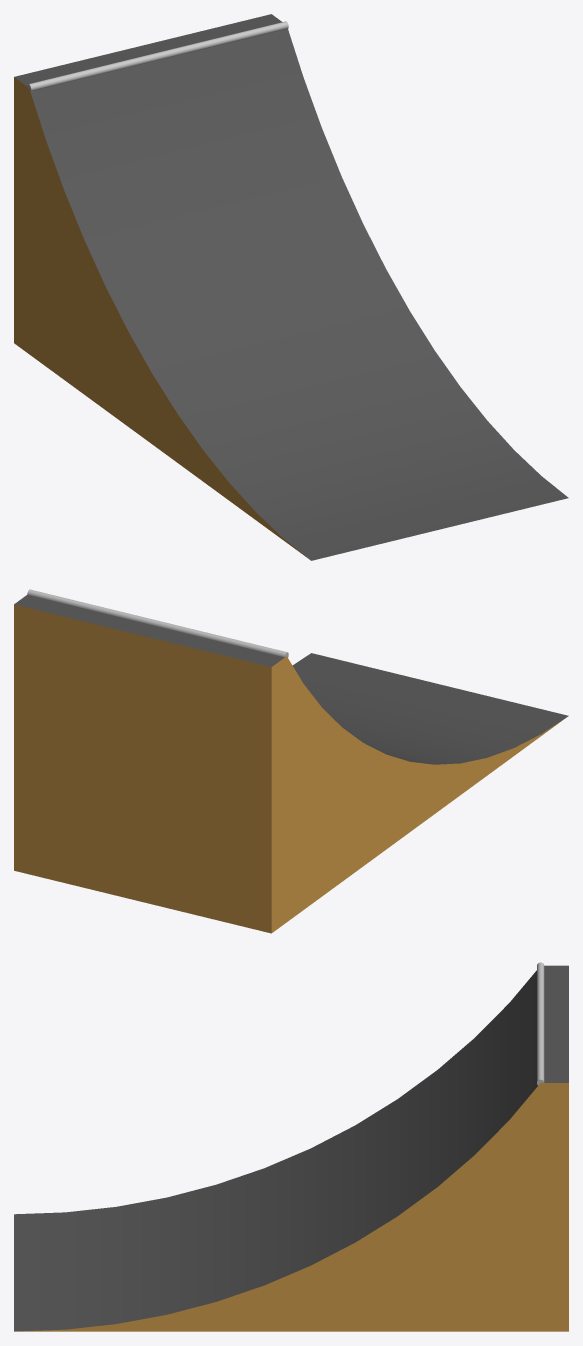
Rendered from Skate_Quarter_Pipe_Long_w_Back_Rail_01.FBX.
3 renders of one model, top to bottom at view 1: azimuth 30°, elevation 25°; view 2: azimuth 150°, elevation 25°; view 3: azimuth 270°, elevation 25°, orthographic. The views are drawn at different scales.
Visible parts, largest first — view 1: Skate_Quarter_Pipe_Long_w_Back_Rail_01; view 2: Skate_Quarter_Pipe_Long_w_Back_Rail_01; view 3: Skate_Quarter_Pipe_Long_w_Back_Rail_01.
Part boxes in pixels (bbox=[...]): Skate_Quarter_Pipe_Long_w_Back_Rail_01: bbox=[14, 14, 568, 560]; Skate_Quarter_Pipe_Long_w_Back_Rail_01: bbox=[14, 589, 568, 933]; Skate_Quarter_Pipe_Long_w_Back_Rail_01: bbox=[14, 962, 568, 1331].
Size of the model in its own units: 3 by 3 by 6.
